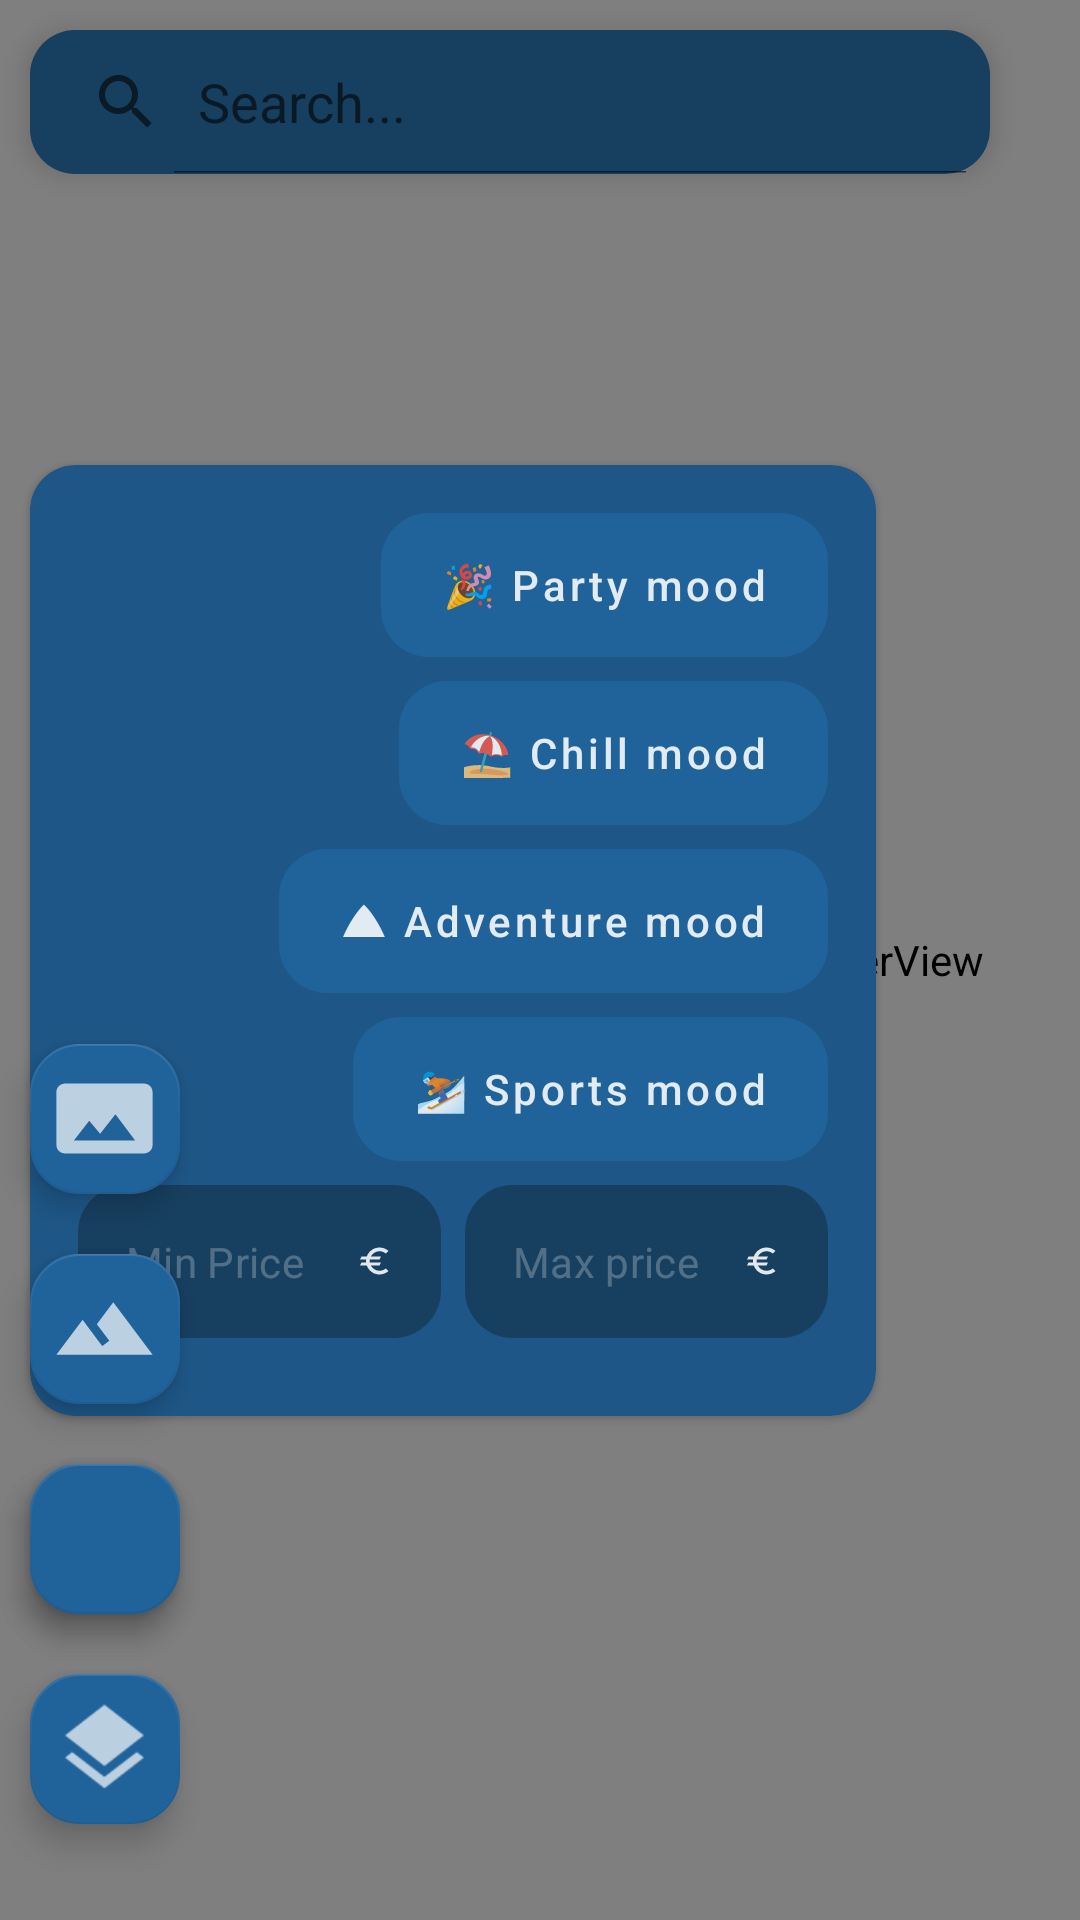

Icons on this 1080px x 1920px Android screen, each with the point to tap as point (x, y):
layers: point (105, 1749)
panorama: point (105, 1119)
